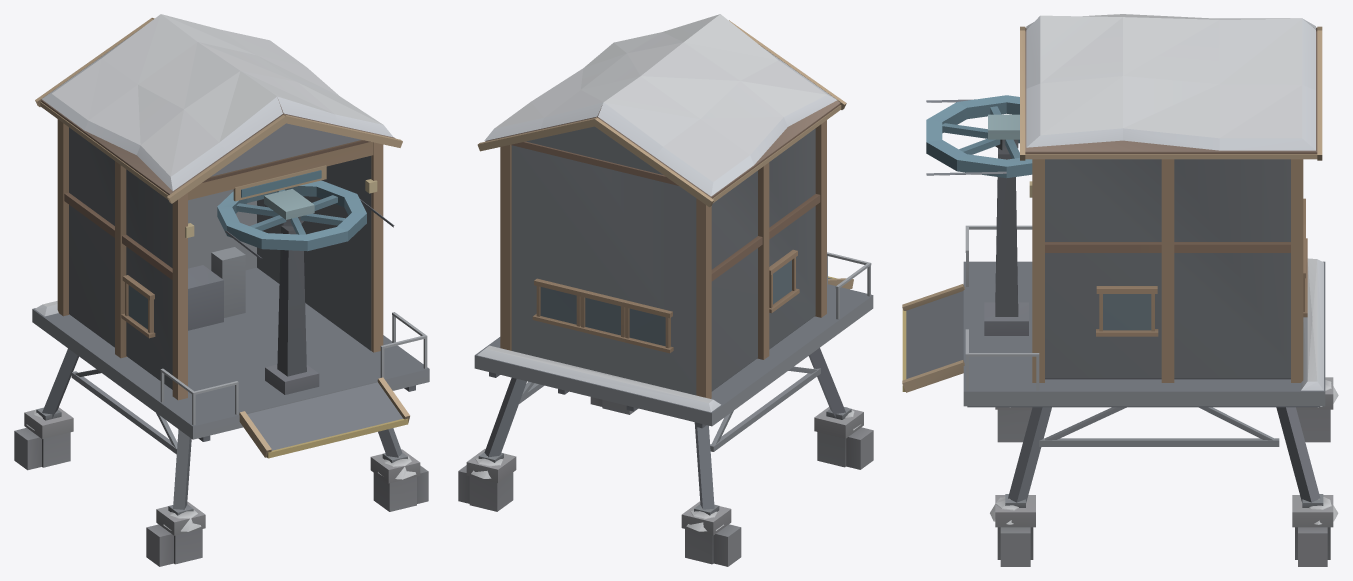
File: top.lod1.glb
3 views of the same model, side by side, from view 1: azimuth 30°, elevation 25°; view 2: azimuth 150°, elevation 25°; view 3: azimuth 270°, elevation 25° (orthographic). The views are drawn at different scales.
Size of the model in its own units: 9.41 by 14.2 by 11.75.
